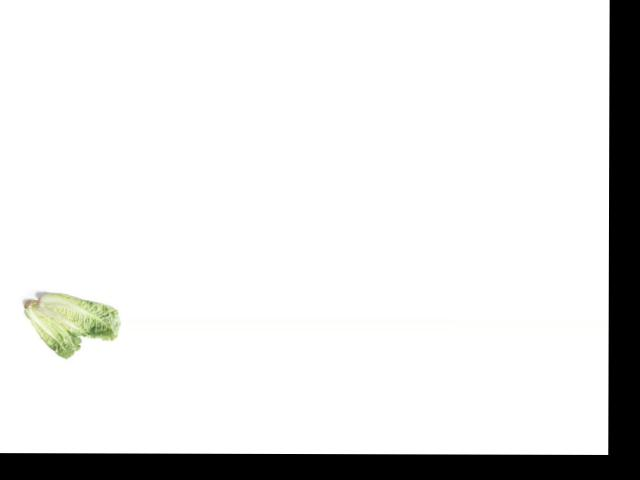lettuce: (19, 298, 82, 359)
